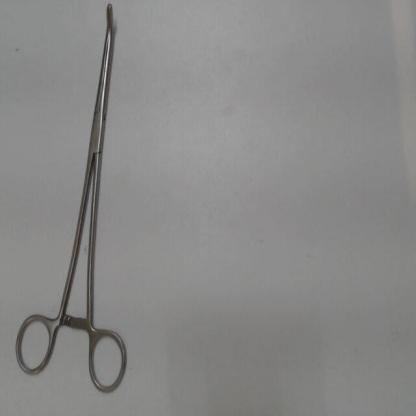Lahey Forceps: (11, 1, 130, 401)
